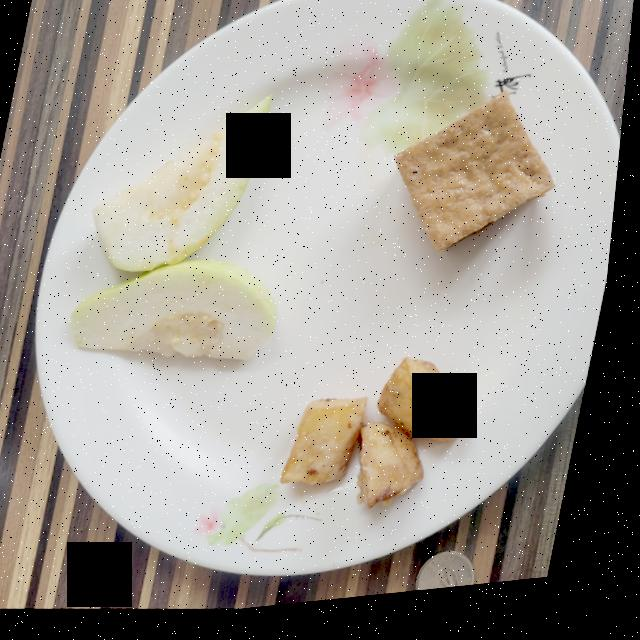coin: (429, 561, 488, 601)
egg tofu: (398, 101, 559, 261)
fried potato: (291, 365, 483, 516)
guava -sliced-: (77, 101, 283, 364)
